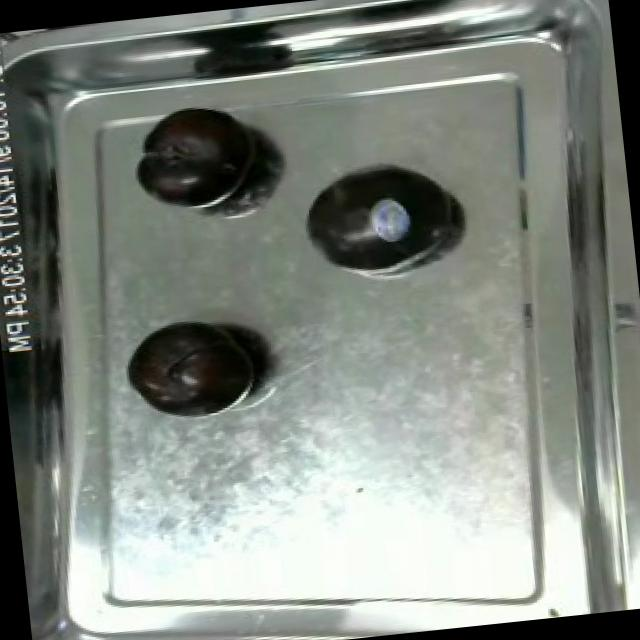Fruit: (116, 306, 270, 424), (128, 98, 264, 214), (294, 157, 424, 276)
